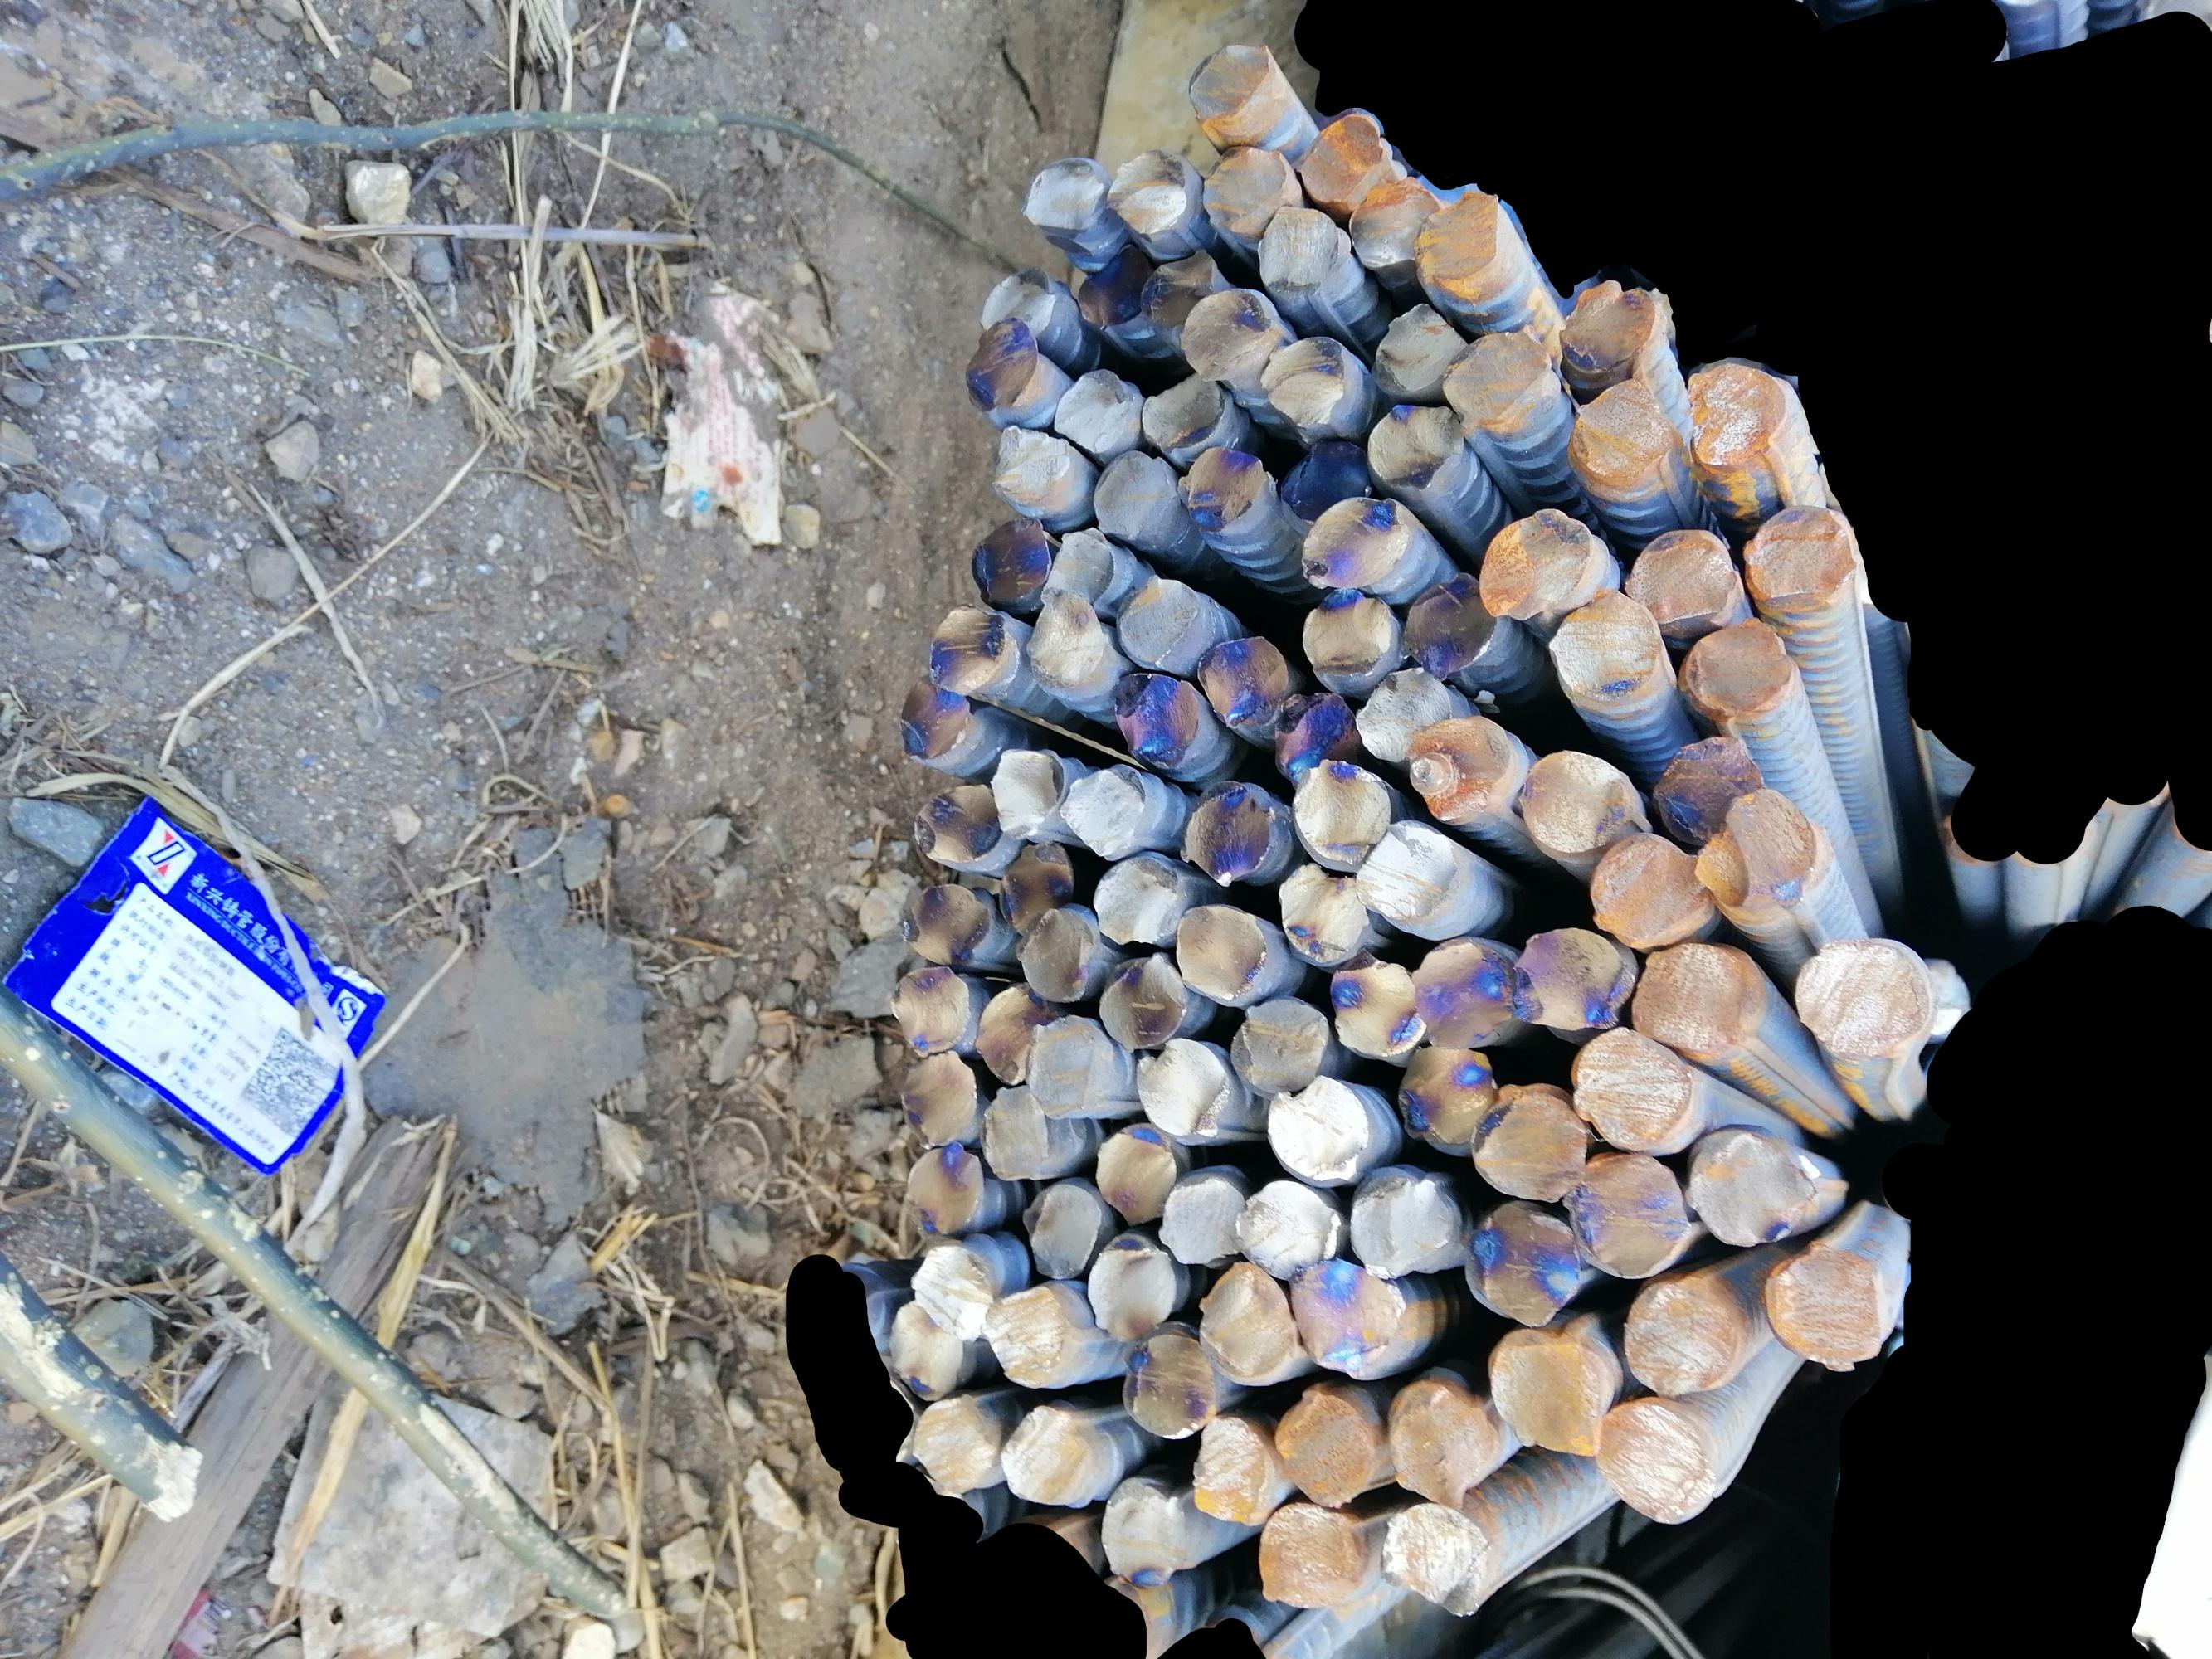bar: (1626, 936, 1766, 1068), (1794, 931, 1933, 1061), (1560, 1148, 1693, 1279), (1686, 1122, 1815, 1255), (1691, 781, 1818, 915), (1483, 1321, 1607, 1457), (1764, 1239, 1884, 1377), (1593, 1391, 1717, 1523), (1466, 1077, 1591, 1206), (1571, 1023, 1693, 1154), (1462, 1199, 1579, 1330), (1590, 826, 1710, 948), (1649, 732, 1773, 847), (1623, 1274, 1736, 1399), (1288, 1246, 1405, 1366), (1475, 500, 1590, 622), (1677, 612, 1799, 727), (1192, 1256, 1297, 1387), (1347, 1159, 1457, 1283), (1515, 746, 1640, 854), (1379, 1378, 1485, 1506), (1382, 1502, 1497, 1617), (1736, 498, 1853, 612), (1544, 587, 1659, 701), (1503, 924, 1623, 1032), (1272, 1382, 1372, 1509), (1619, 526, 1743, 627), (1407, 936, 1515, 1051), (1684, 357, 1790, 472), (1264, 1072, 1368, 1187), (1117, 1319, 1217, 1439), (1565, 371, 1672, 483), (1401, 716, 1515, 821), (1257, 1504, 1363, 1612), (1229, 1175, 1339, 1279), (1555, 267, 1661, 373), (1354, 817, 1461, 922), (1293, 753, 1393, 864), (1297, 495, 1412, 591), (1001, 1399, 1096, 1514), (1328, 950, 1431, 1056), (1175, 775, 1276, 884), (1396, 1037, 1497, 1145), (1412, 181, 1510, 293), (1100, 1469, 1184, 1593), (1177, 275, 1276, 378), (1021, 589, 1114, 699), (1353, 662, 1452, 763), (1288, 110, 1391, 207), (1403, 563, 1490, 678), (1443, 329, 1550, 423), (1089, 1230, 1180, 1340), (1116, 573, 1211, 674), (1093, 948, 1189, 1049), (1231, 995, 1327, 1096), (1135, 1037, 1227, 1141), (1192, 1410, 1272, 1528), (1173, 901, 1267, 1000), (1274, 863, 1367, 964), (1374, 298, 1468, 394), (1089, 448, 1184, 544), (1199, 143, 1297, 235), (1110, 667, 1203, 765), (1198, 629, 1283, 734), (1346, 173, 1435, 272), (985, 1284, 1069, 1389), (1184, 38, 1279, 129), (1276, 432, 1374, 521), (1299, 587, 1393, 678), (927, 605, 1018, 699), (1091, 849, 1180, 945), (992, 835, 1077, 934), (1095, 1126, 1178, 1227), (971, 507, 1053, 610), (903, 1141, 985, 1244), (1062, 760, 1147, 857), (1262, 329, 1346, 429), (1018, 1180, 1102, 1279), (908, 1392, 992, 1492), (910, 1243, 992, 1344), (899, 1049, 980, 1152), (1257, 202, 1347, 293), (1365, 401, 1455, 491), (910, 779, 1001, 870), (1103, 145, 1191, 239), (1272, 688, 1356, 786), (1025, 1009, 1098, 1121), (1157, 1175, 1246, 1265), (885, 1298, 962, 1403), (1014, 904, 1095, 1004), (903, 882, 992, 971), (1175, 441, 1262, 532), (978, 981, 1053, 1086), (1037, 523, 1126, 610), (1051, 364, 1137, 453), (1142, 366, 1227, 455), (964, 315, 1037, 415), (891, 964, 967, 1058), (985, 420, 1074, 500), (896, 669, 974, 760), (1077, 235, 1150, 331), (1020, 155, 1105, 235), (1140, 244, 1220, 329), (988, 744, 1060, 838), (978, 265, 1058, 345), (983, 1082, 1048, 1182)
